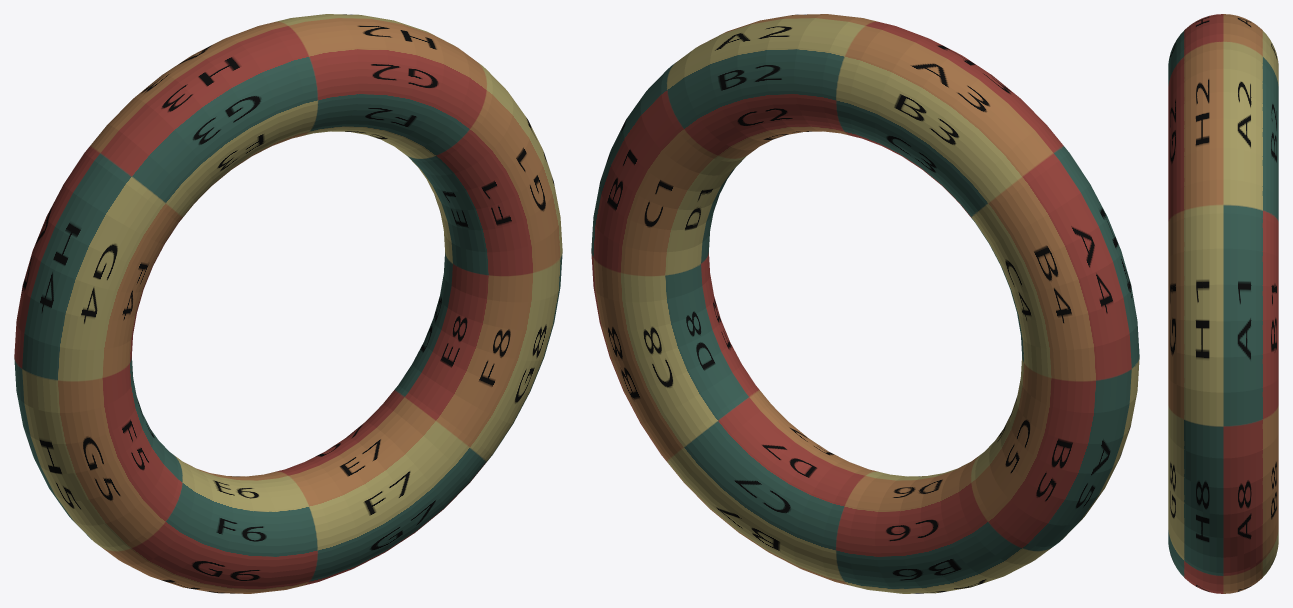
File: texture_torus_R18_r12.glb
The picture shows the model from 3 angles, left to right: view 1: azimuth 30°, elevation 25°; view 2: azimuth 150°, elevation 25°; view 3: azimuth 270°, elevation 25°; orthographic projection. The views are drawn at different scales.
Visible parts, largest first — view 1: world; view 2: world; view 3: world.
Boxes of the visible parts, x1=… form: world: x1=14, y1=14, x2=562, y2=593; world: x1=591, y1=14, x2=1139, y2=593; world: x1=1168, y1=14, x2=1278, y2=593.
Size of the model in its own units: 27.2 by 27.15 by 5.19.
Materials: 1 (1 with a texture image).
